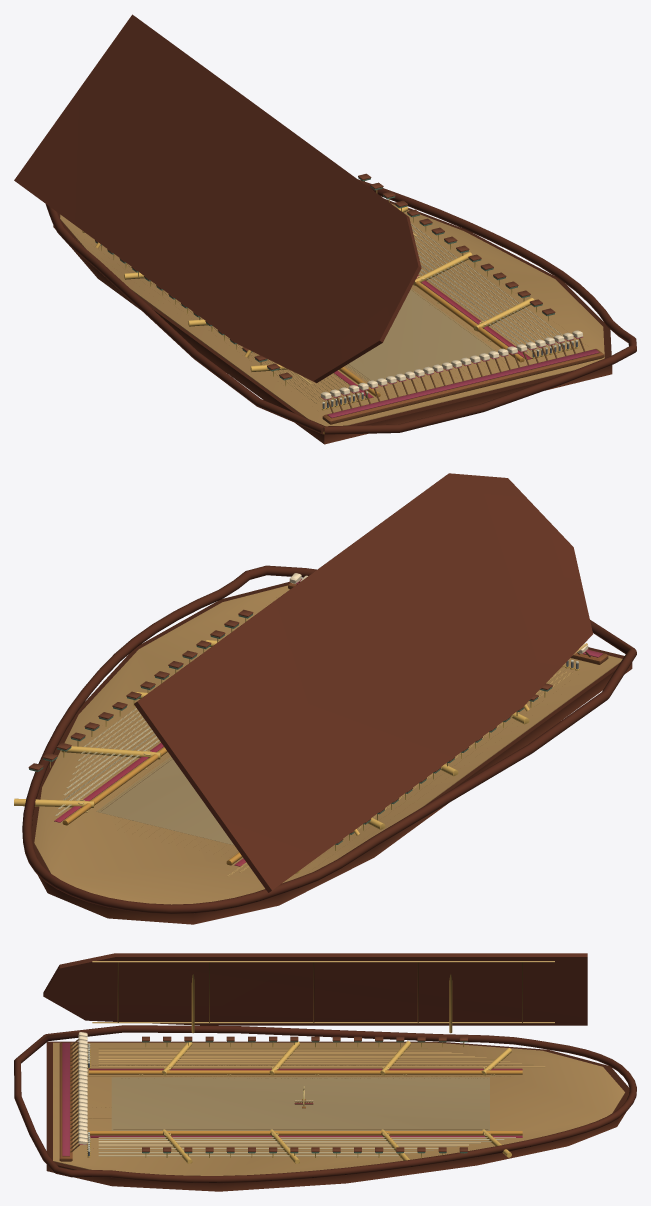
File: mundo-piano-juego.glb
The picture shows the model from 3 angles, top to bottom: view 1: azimuth 30°, elevation 25°; view 2: azimuth 150°, elevation 25°; view 3: azimuth 270°, elevation 25°; orthographic projection. The views are drawn at different scales.
Parts seen in each view (by area): view 1: Tabla y tapa, Fieltros, Cuerdas y clavijas, Arpa y molduras; view 2: Tabla y tapa, Arpa y molduras, Cuerdas y clavijas, Fieltros; view 3: Tabla y tapa, Cuerdas y clavijas, Arpa y molduras, Fieltros.
Boxes of the visible parts, x1,y1,x2,y2 form: Tabla y tapa: [14, 14, 636, 444]; Fieltros: [95, 177, 599, 418]; Cuerdas y clavijas: [127, 224, 578, 408]; Arpa y molduras: [82, 181, 578, 433]; Tabla y tapa: [22, 473, 636, 924]; Arpa y molduras: [14, 618, 587, 873]; Cuerdas y clavijas: [55, 591, 578, 876]; Fieltros: [29, 573, 602, 866]; Tabla y tapa: [14, 953, 636, 1191]; Cuerdas y clavijas: [87, 1043, 544, 1156]; Arpa y molduras: [87, 961, 554, 1163]; Fieltros: [62, 1032, 522, 1156].
Size of the model in its own units: 112 by 49.97 by 191.
